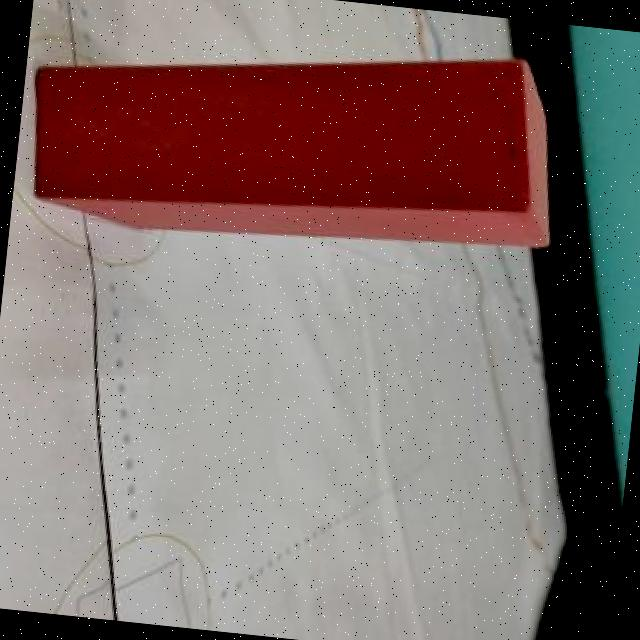redbox: (18, 10, 571, 271)
